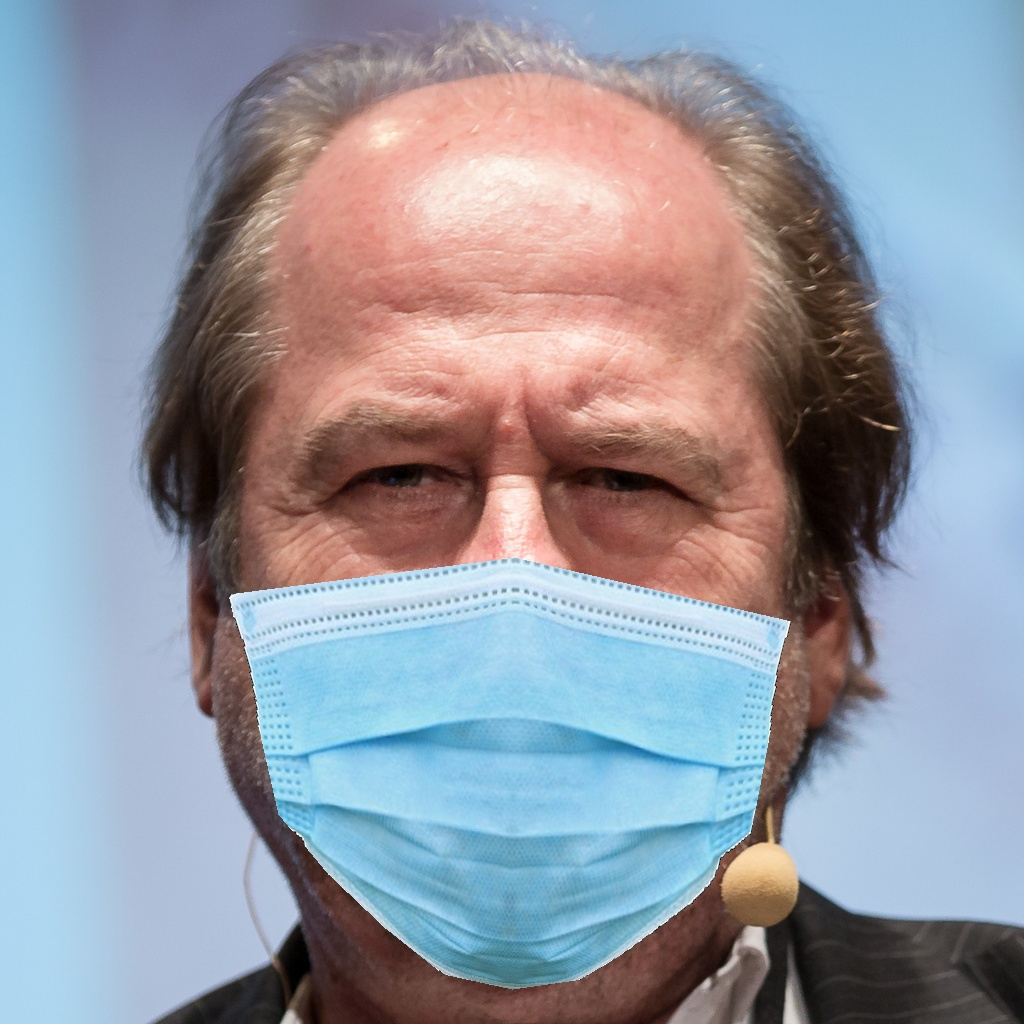Mask: (228, 347, 814, 990)
